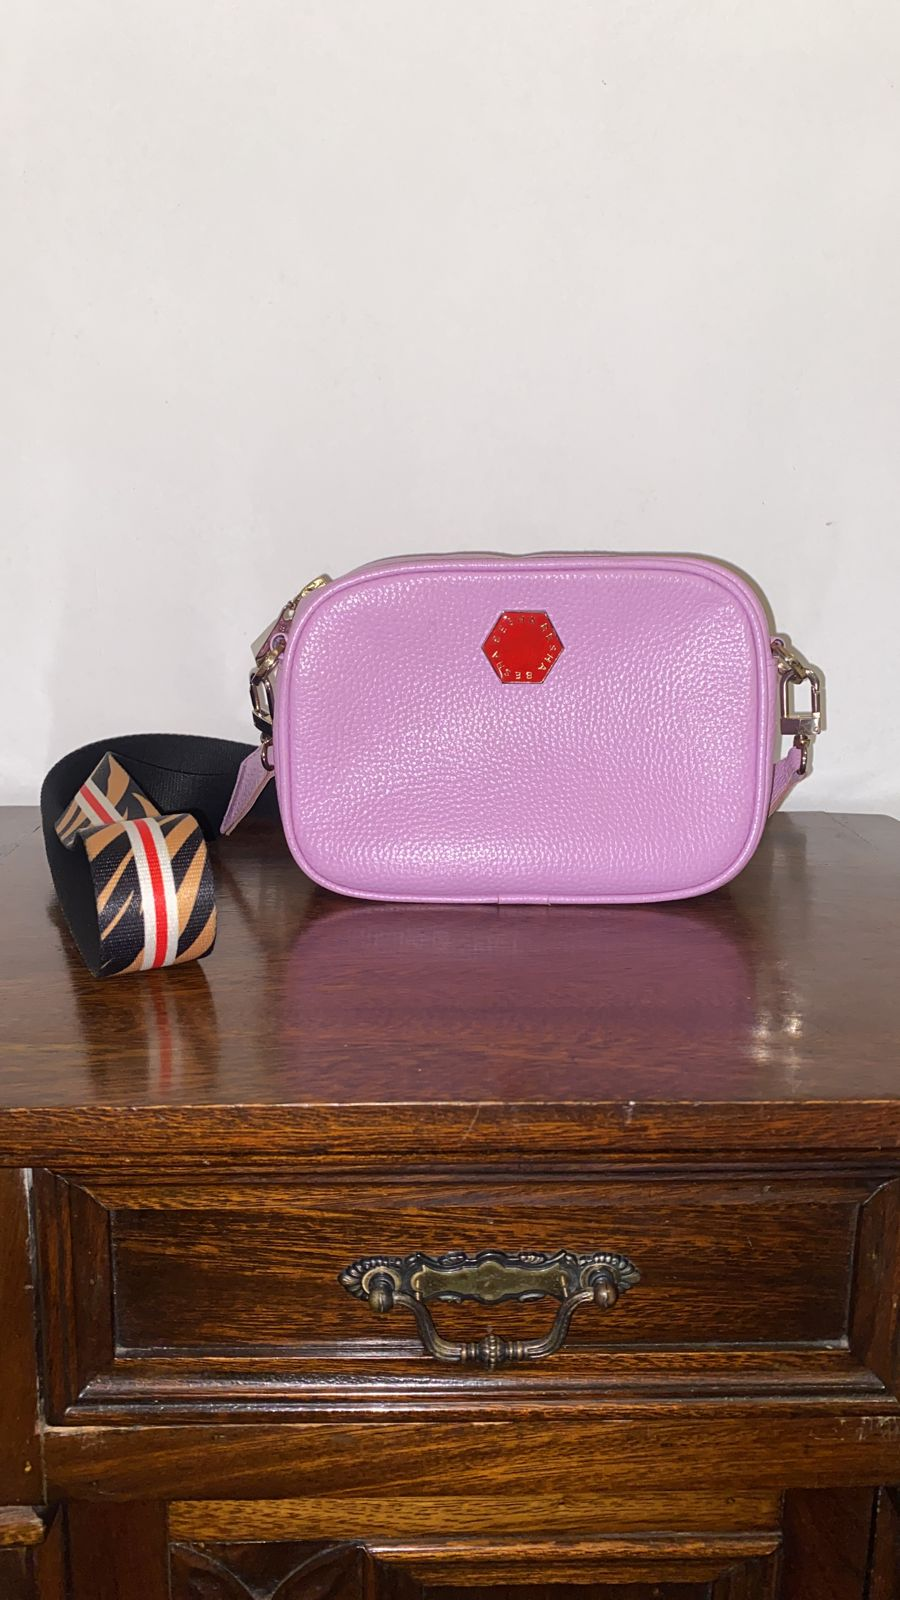cartera: (30, 507, 840, 991)
cuero: (323, 600, 714, 871)
